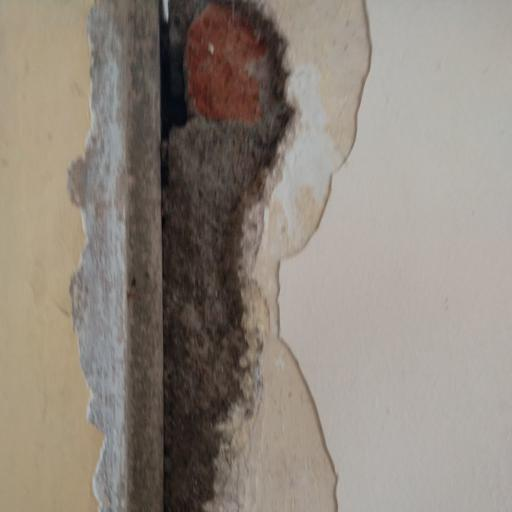spalling: (69, 0, 378, 511)
